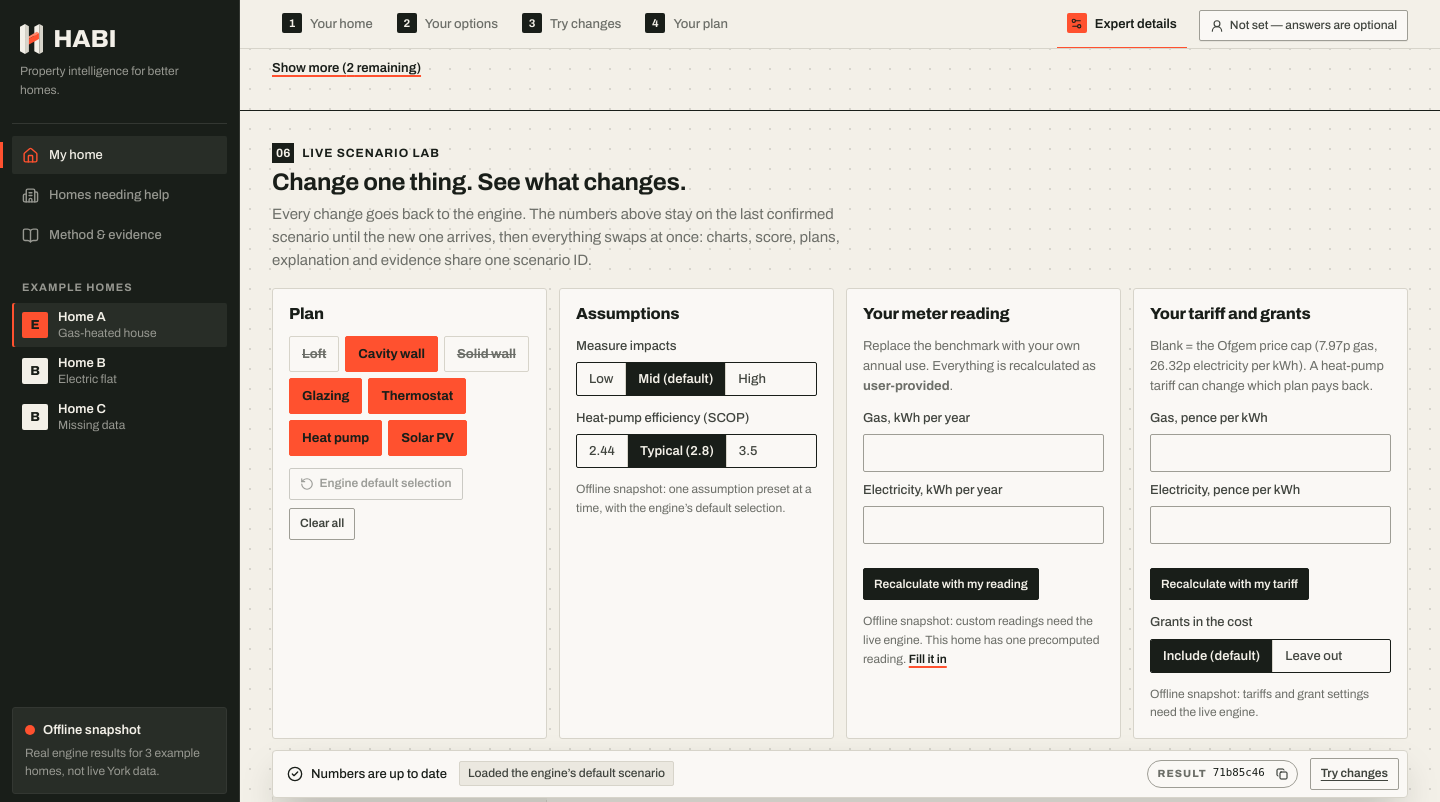
My Home: demo home A (Poor gas house) › keeps the last confirmed scenario when a change cannot be calculated
(page scrolled)
Type "12345" into the field labelled "Gas, kWh per year". click: (984, 453)
box: [863,434,1104,472]
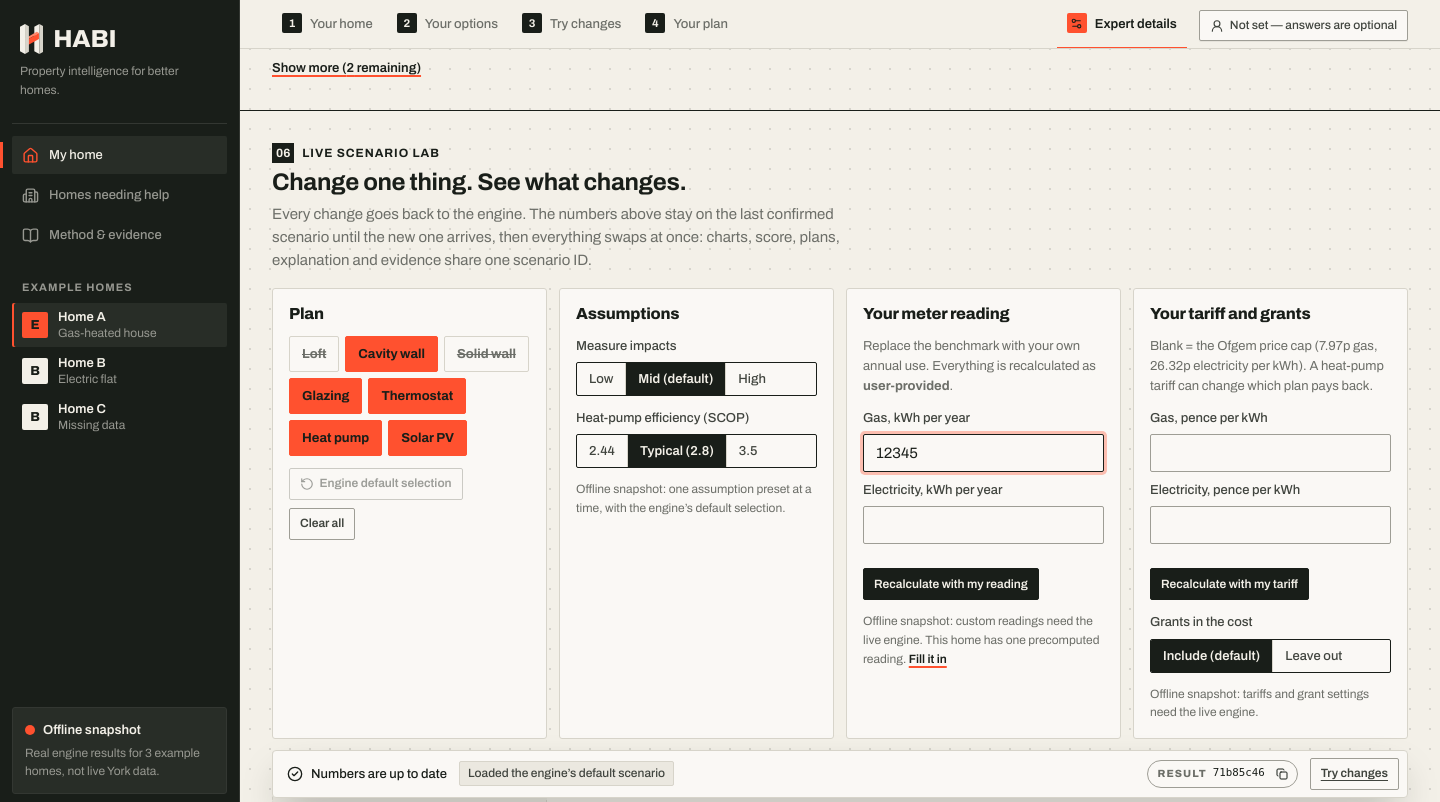
Click the button "Recalculate with my reading". click: (951, 584)
box: [863,568,1039,600]
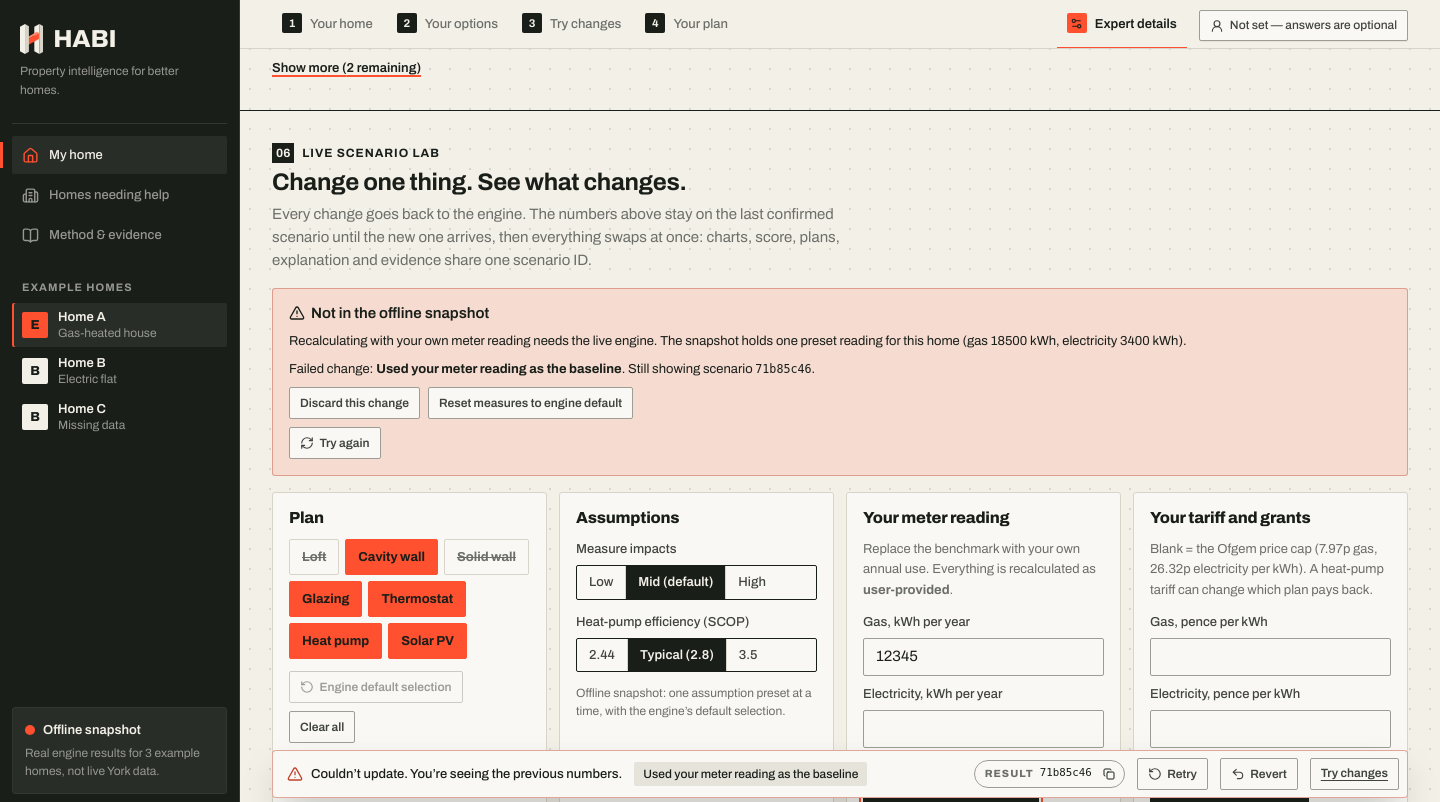
Now the heading "Not in the offline snapshot" is shown, box [289,305,489,321]
Now the text "Couldn’t update. You’re seeing the previous numbers." is shown, box [311,764,622,784]
Click the button "Discard this change". click: (354, 403)
box: [289,387,420,419]
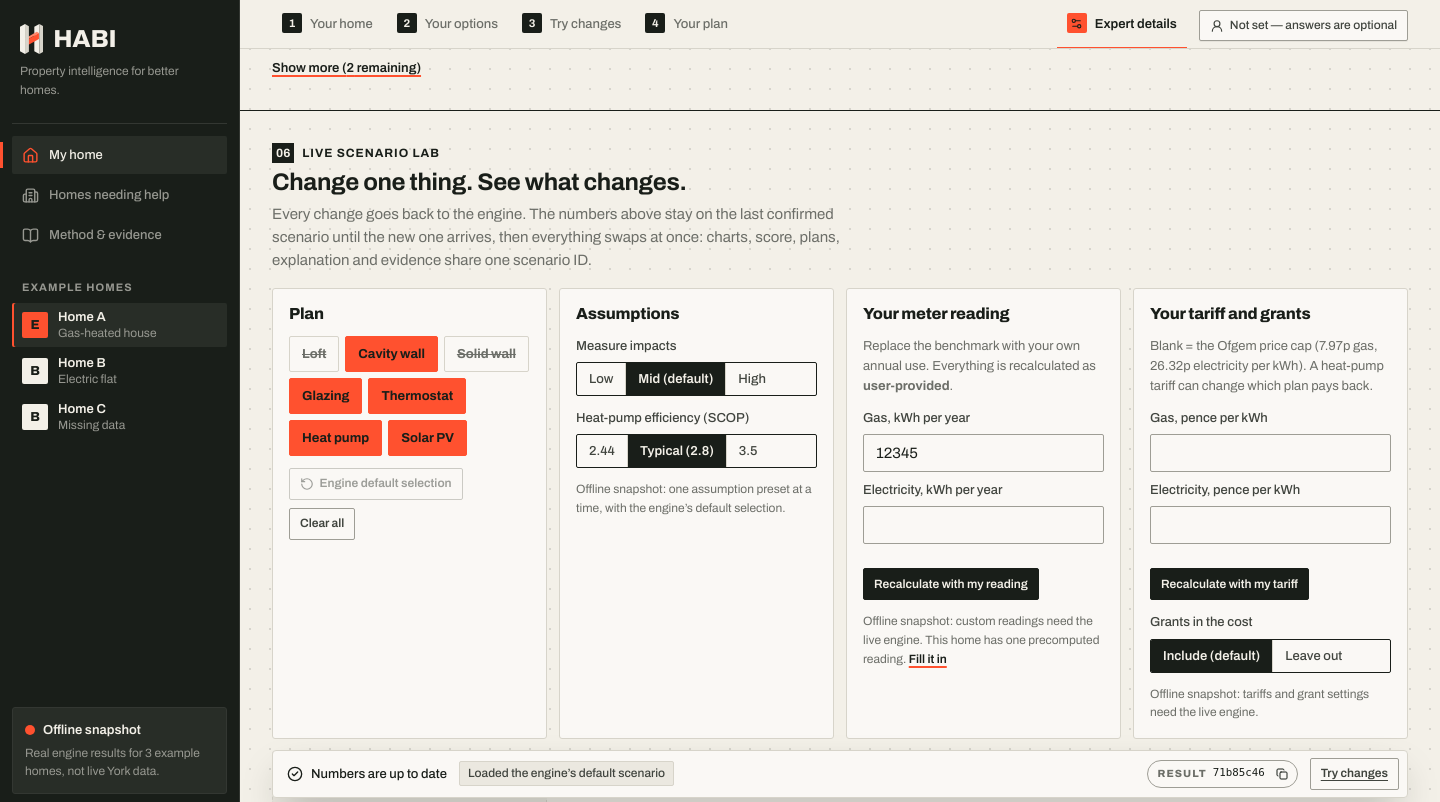
Now the heading "Not in the offline snapshot" is gone
